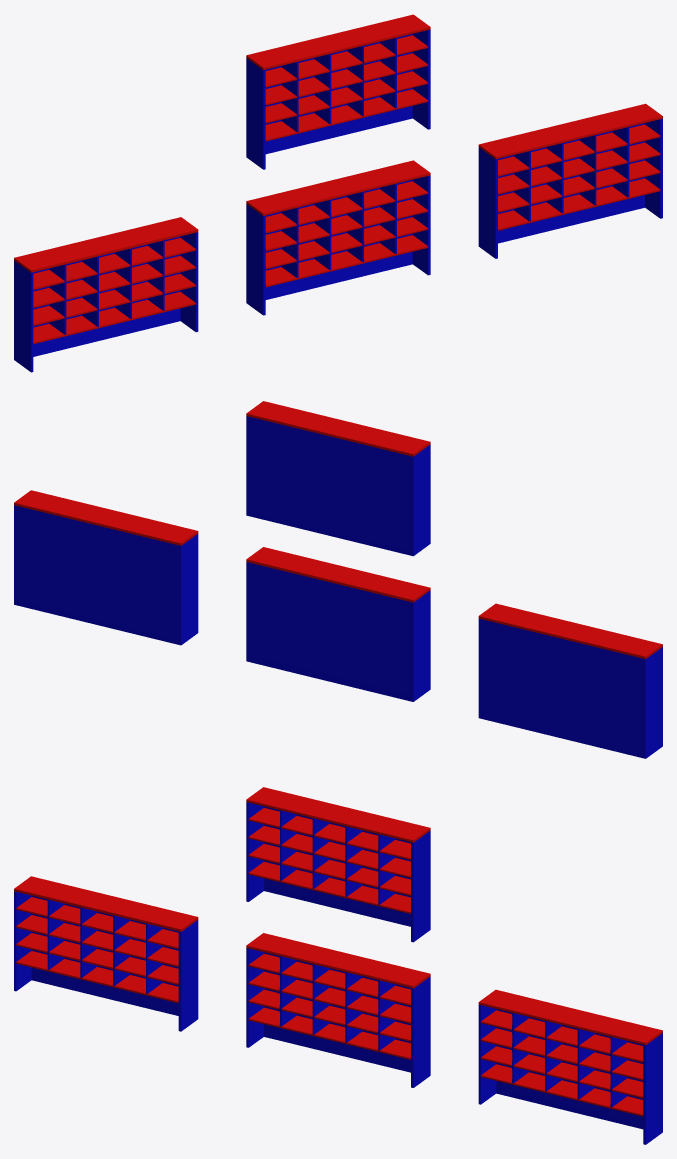
File: Pigeon Hole._sketchFabfbx.fbx
3 views of the same model, one above another, from view 1: azimuth 30°, elevation 25°; view 2: azimuth 150°, elevation 25°; view 3: azimuth 330°, elevation 25° (orthographic).
Visible parts, largest first — view 1: Pigeon Hole_Low, Pigeon Hole_Ultra, Pigeon Hole_High, Pigeon Hole_Mid; view 2: Pigeon Hole_Low, Pigeon Hole_Ultra, Pigeon Hole_High, Pigeon Hole_Mid; view 3: Pigeon Hole_Low, Pigeon Hole_High, Pigeon Hole_Ultra, Pigeon Hole_Mid.
Boxes of the visible parts, <box> form: Pigeon Hole_Low: <box>14,217,198,372</box>; Pigeon Hole_Ultra: <box>246,14,430,169</box>; Pigeon Hole_High: <box>478,103,662,258</box>; Pigeon Hole_Mid: <box>246,160,430,315</box>; Pigeon Hole_Low: <box>478,603,662,758</box>; Pigeon Hole_Ultra: <box>246,401,430,556</box>; Pigeon Hole_High: <box>14,490,198,645</box>; Pigeon Hole_Mid: <box>246,547,430,701</box>; Pigeon Hole_Low: <box>14,876,198,1031</box>; Pigeon Hole_High: <box>478,989,662,1144</box>; Pigeon Hole_Ultra: <box>246,787,430,942</box>; Pigeon Hole_Mid: <box>246,933,430,1087</box>.
Size of the model in its own units: 680 by 255 by 32.
